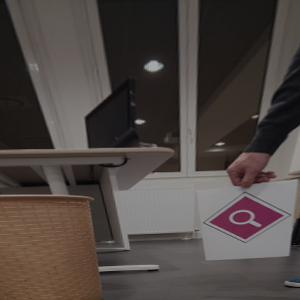search: (205, 191, 291, 244)
